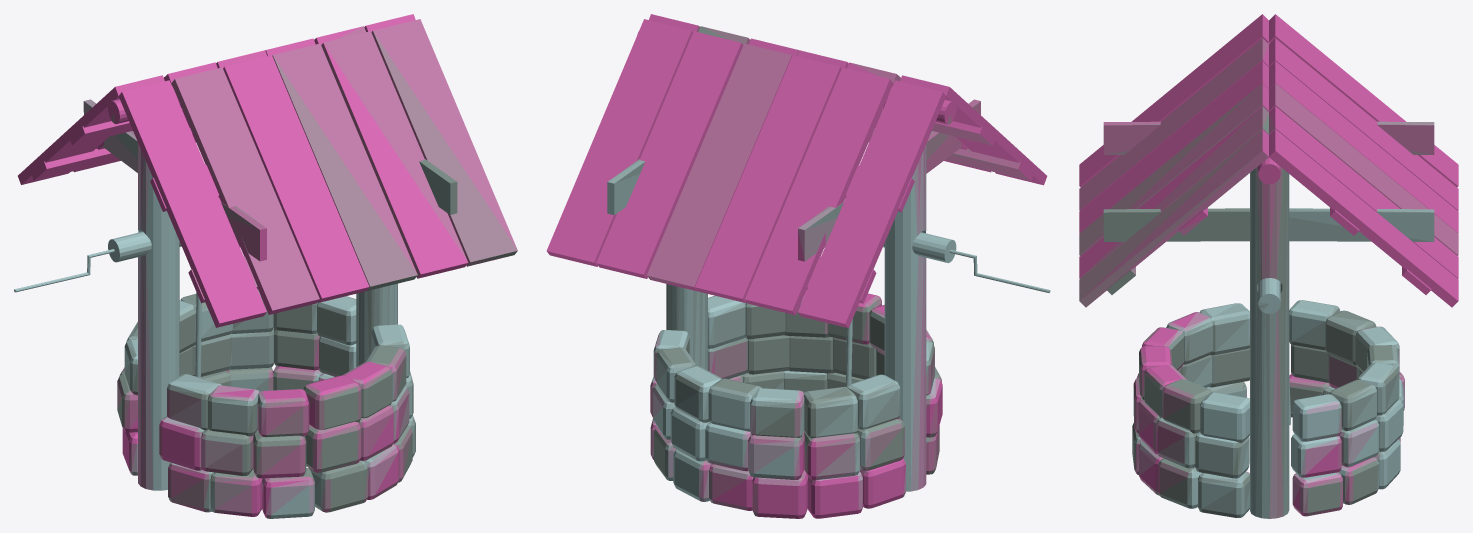
The picture shows the model from 3 angles, left to right: view 1: azimuth 30°, elevation 25°; view 2: azimuth 150°, elevation 25°; view 3: azimuth 270°, elevation 25°; orthographic projection. The views are drawn at different scales.
Visible parts, largest first — view 1: world; view 2: world; view 3: world.
Boxes of the visible parts, box(x1,y1,x2,y2) form: world: box(14, 14, 517, 518); world: box(546, 14, 1050, 518); world: box(1079, 14, 1458, 518).
Size of the model in its own units: 1 by 0.9574 by 0.8589.
